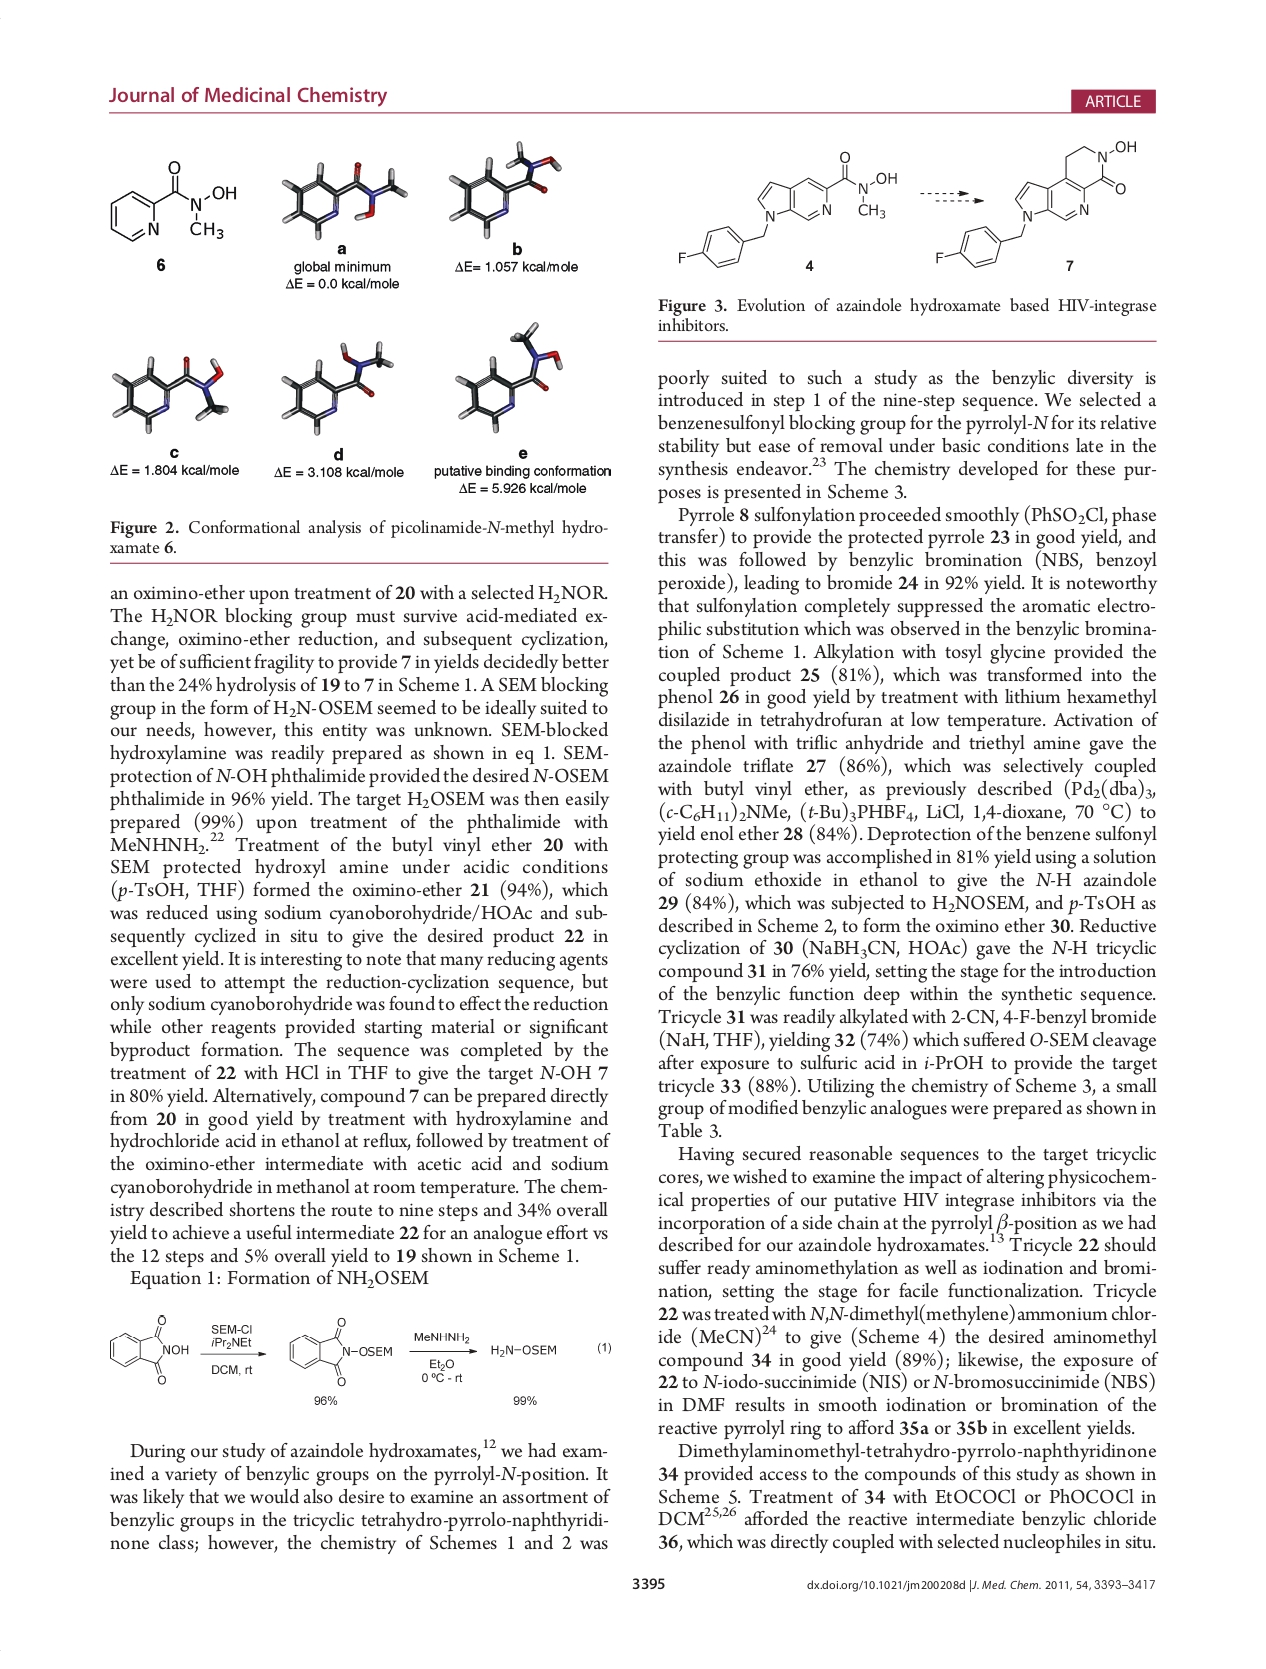exist_molecular: (930, 137, 1140, 270), (673, 149, 899, 270), (102, 157, 239, 245), (285, 1314, 398, 1390), (108, 1311, 194, 1388)
